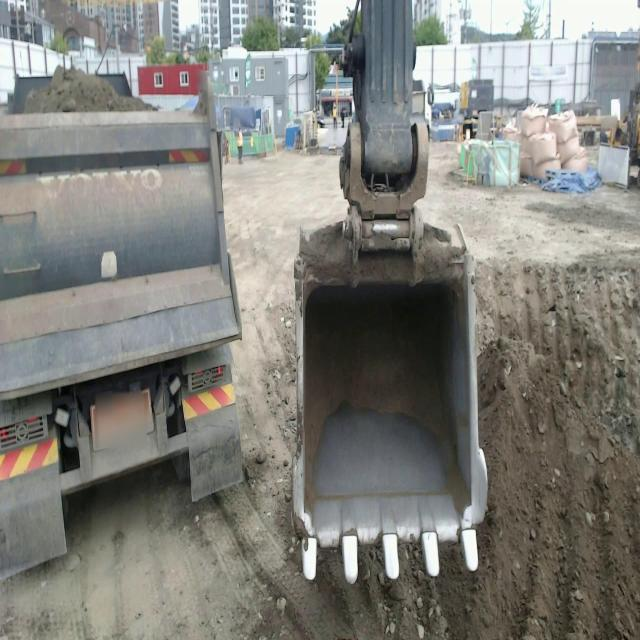white-sand: (0, 143, 640, 639)
